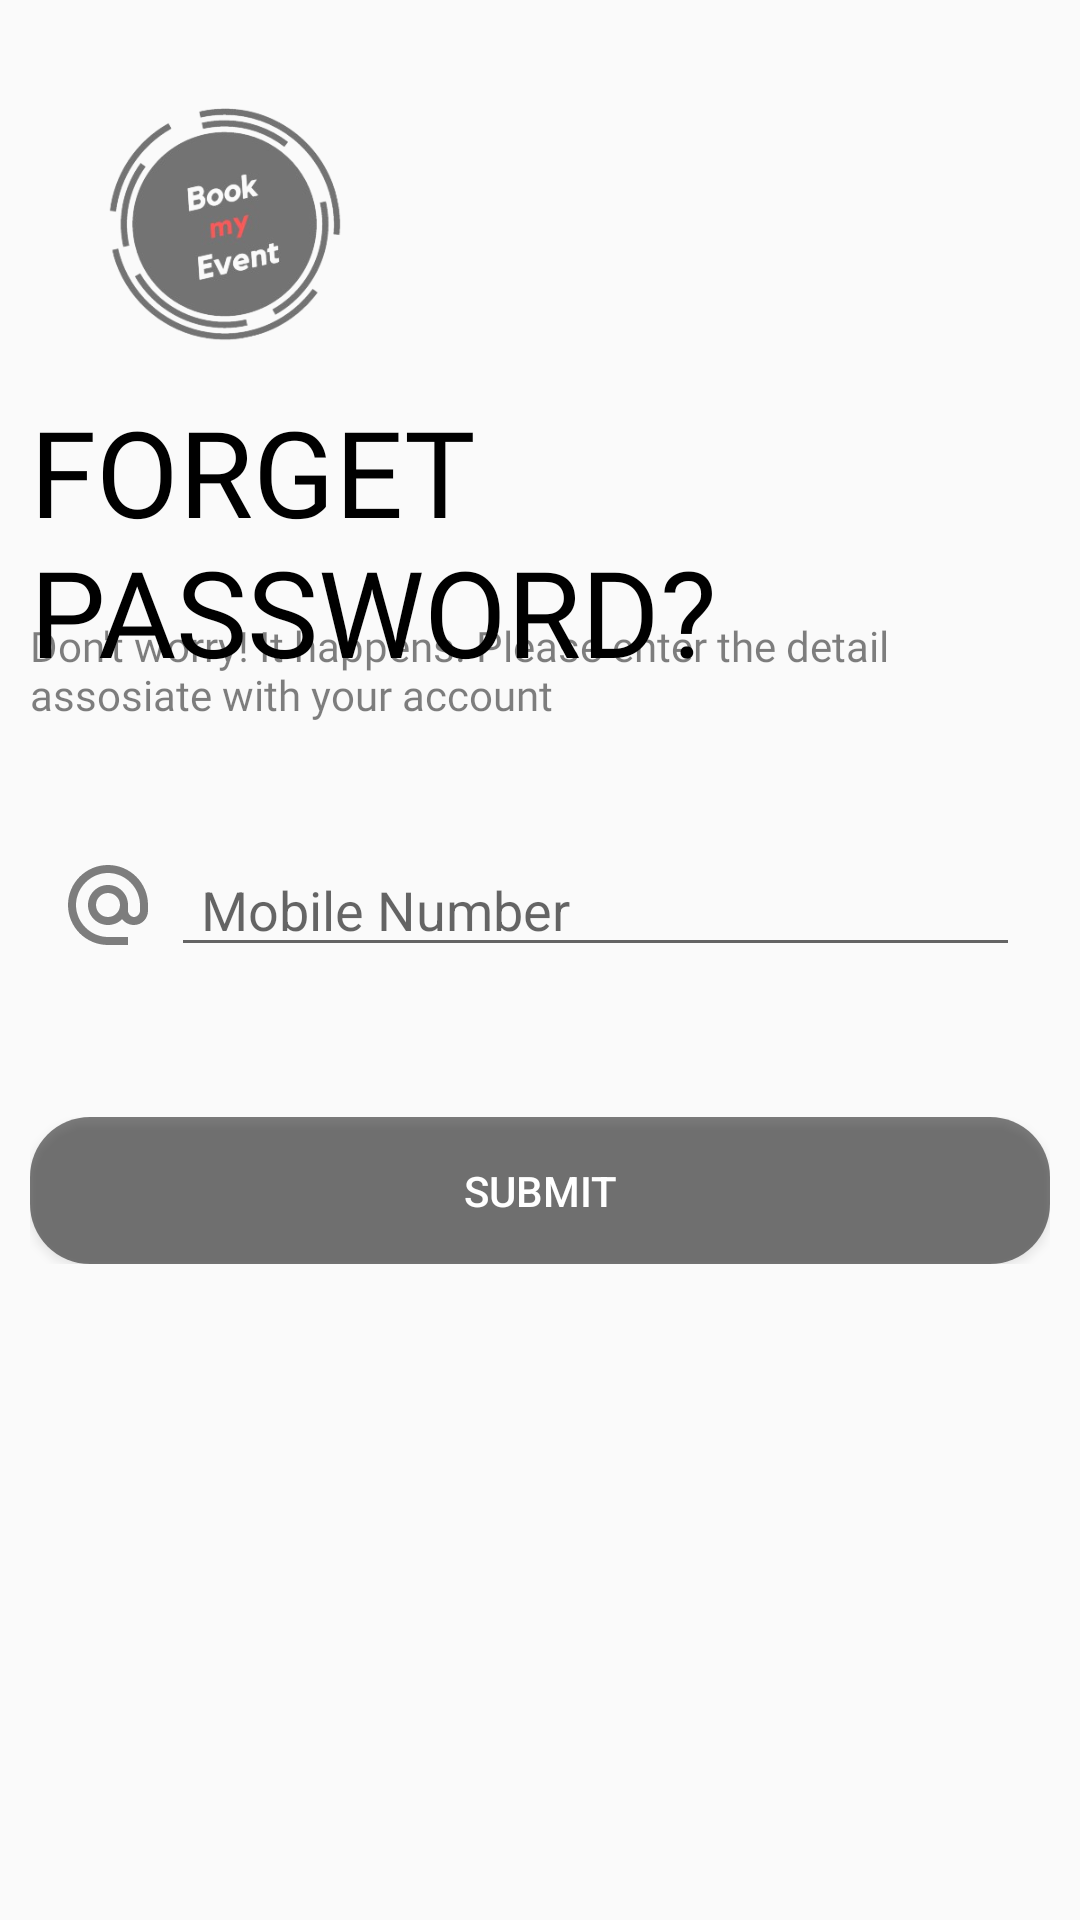

Screen size 1080 x 1920. Icon name, then its center in pixels as (x=x, y=y):
alternate email: (x=108, y=905)
